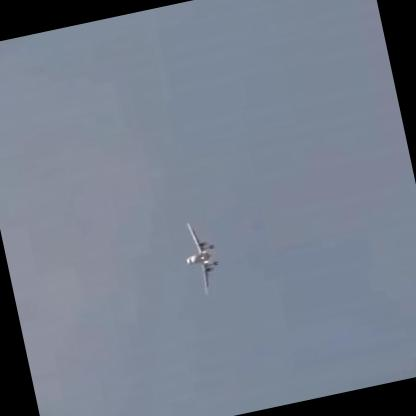plane: (179, 216, 226, 295)
